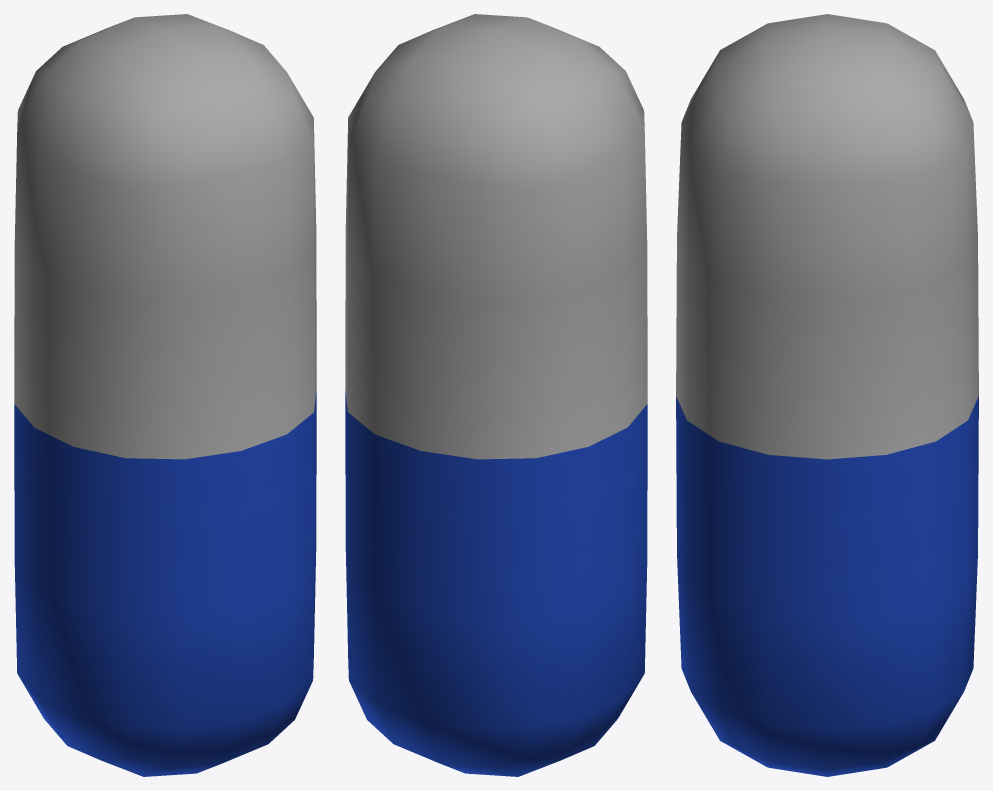
Rendered from BluePill.fbx.
The picture shows the model from 3 angles, left to right: view 1: azimuth 30°, elevation 25°; view 2: azimuth 150°, elevation 25°; view 3: azimuth 270°, elevation 25°; orthographic projection.
Parts seen in each view (by area): view 1: PillBlue; view 2: PillBlue; view 3: PillBlue.
Part boxes in pixels (<box>): PillBlue: <box>14,14,316,776</box>; PillBlue: <box>345,14,647,776</box>; PillBlue: <box>676,14,978,776</box>.
Bounding box in the file's own units: 89.93 × 239 × 89.93.
